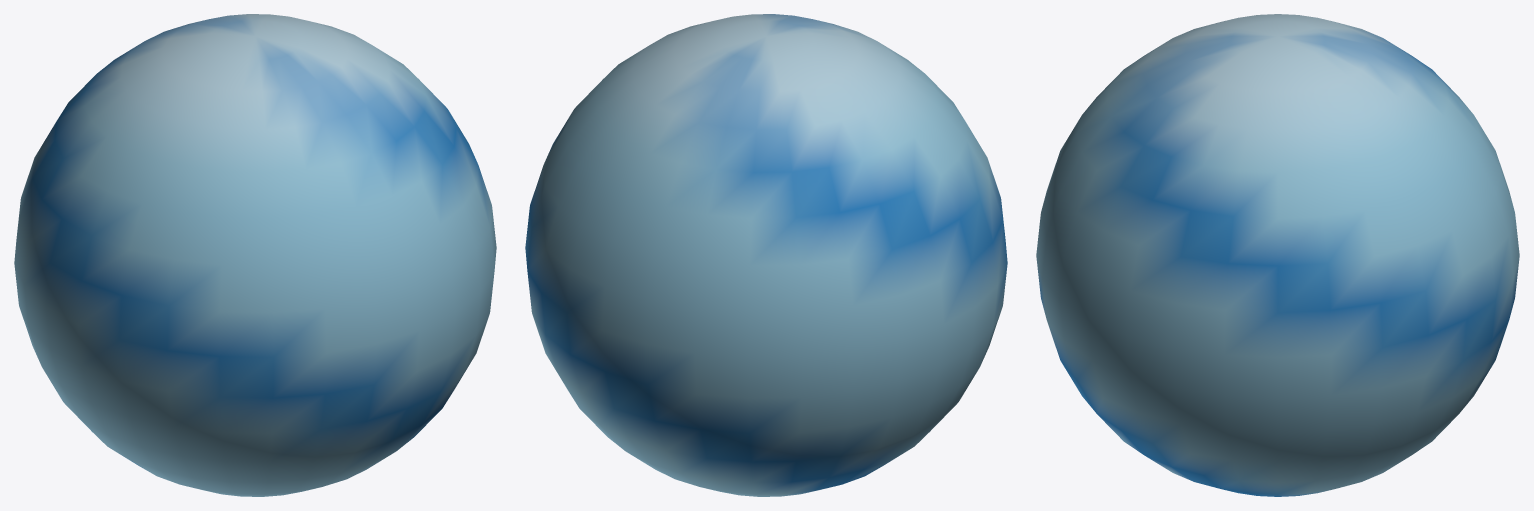
The model's file is Park_Marble.fbx.
3 views of the same model, side by side, from view 1: azimuth 30°, elevation 25°; view 2: azimuth 150°, elevation 25°; view 3: azimuth 270°, elevation 25° (orthographic).
Visible parts, largest first — view 1: Park_Marble; view 2: Park_Marble; view 3: Park_Marble.
Part boxes in pixels (x1,y1,x2,y2): Park_Marble: (14,14,496,496); Park_Marble: (525,14,1007,496); Park_Marble: (1036,14,1519,496).
Size of the model in its own units: 1.8 by 1.8 by 1.8.
